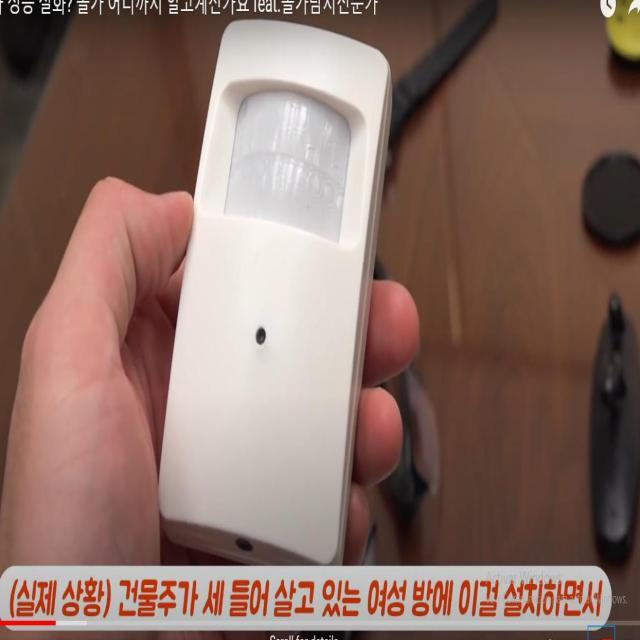hidden camera: (250, 315, 271, 356)
